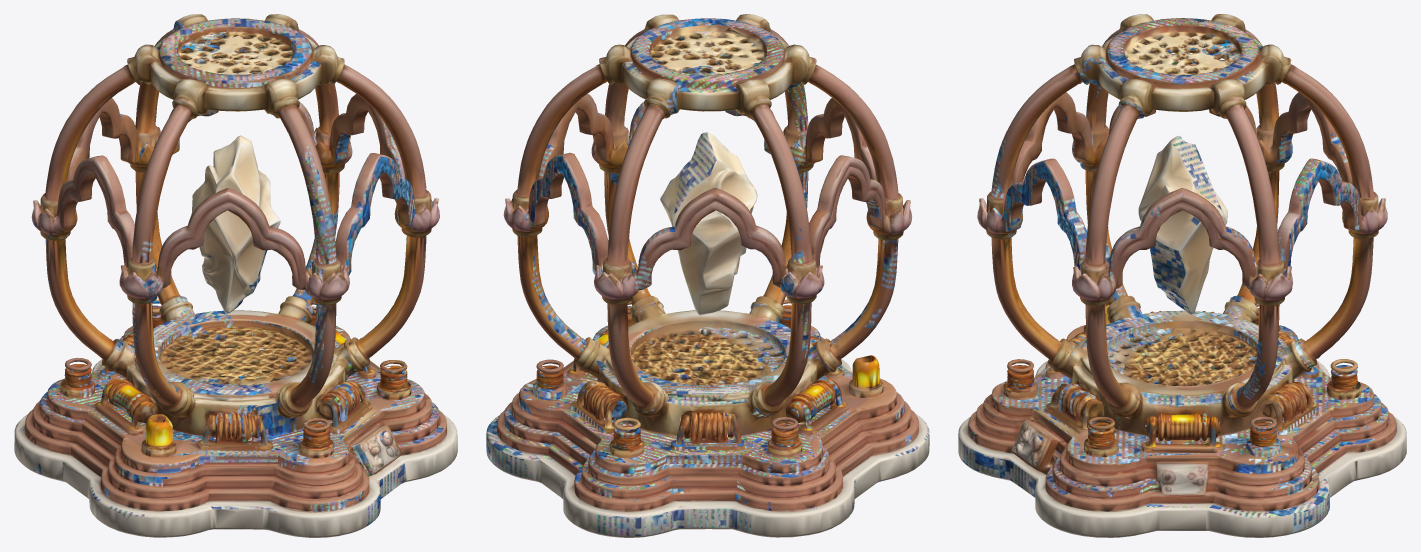
File: quantum_fragment.glb
The picture shows the model from 3 angles, left to right: view 1: azimuth 30°, elevation 25°; view 2: azimuth 150°, elevation 25°; view 3: azimuth 270°, elevation 25°; orthographic projection.
Parts seen in each view (by area): view 1: node_0; view 2: node_0; view 3: node_0.
Part boxes in pixels (<box>): node_0: <box>14,14,457,537</box>; node_0: <box>486,14,929,537</box>; node_0: <box>958,14,1406,537</box>.
Size of the model in its own units: 0.7674 by 0.8541 by 0.8544.
Materials: 1 (1 with a texture image).
